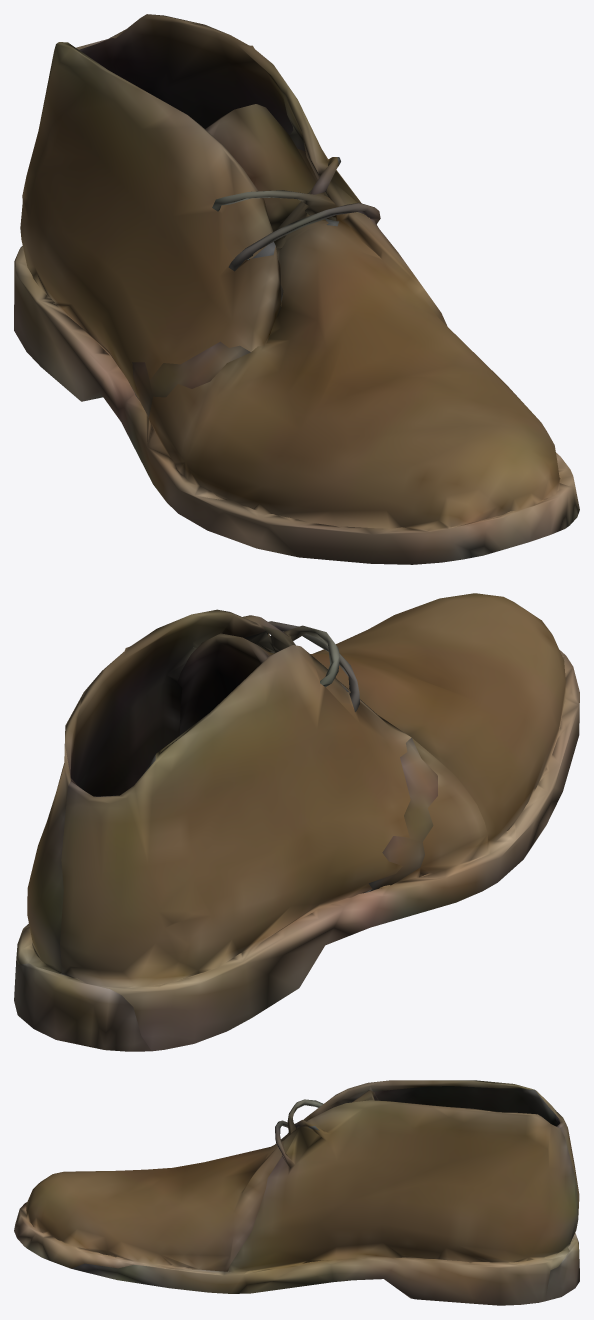
File: Timberland_Mens_Earthkeepers_Stormbuck_Chukka-medium.glb
The picture shows the model from 3 angles, top to bottom: view 1: azimuth 30°, elevation 25°; view 2: azimuth 150°, elevation 25°; view 3: azimuth 270°, elevation 25°; orthographic projection. The views are drawn at different scales.
Visible parts, largest first — view 1: Timberland_Mens_Earthkeepers_Stormbuck_Chukka; view 2: Timberland_Mens_Earthkeepers_Stormbuck_Chukka; view 3: Timberland_Mens_Earthkeepers_Stormbuck_Chukka.
Part boxes in pixels (x1,y1,x2,y2): Timberland_Mens_Earthkeepers_Stormbuck_Chukka: [14, 14, 579, 564]; Timberland_Mens_Earthkeepers_Stormbuck_Chukka: [14, 593, 579, 1051]; Timberland_Mens_Earthkeepers_Stormbuck_Chukka: [14, 1080, 579, 1305].
Size of the model in its own units: 0.1125 by 0.1155 by 0.3061.
Materials: 1 (1 with a texture image).
